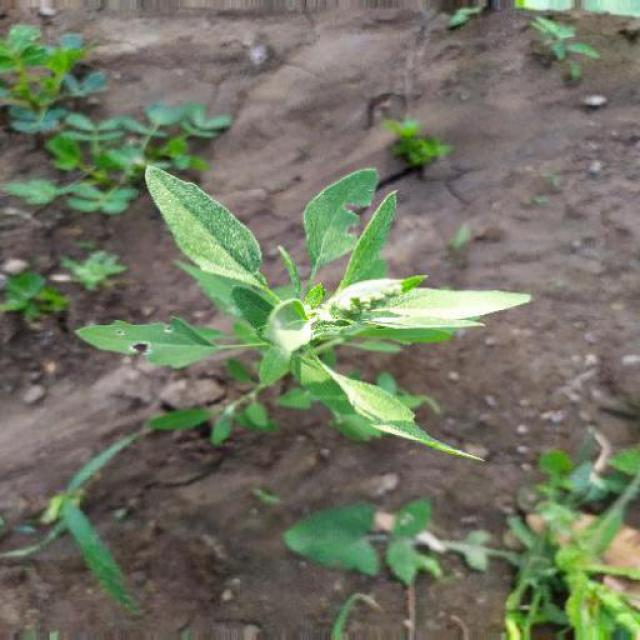weed: (66, 148, 545, 500)
